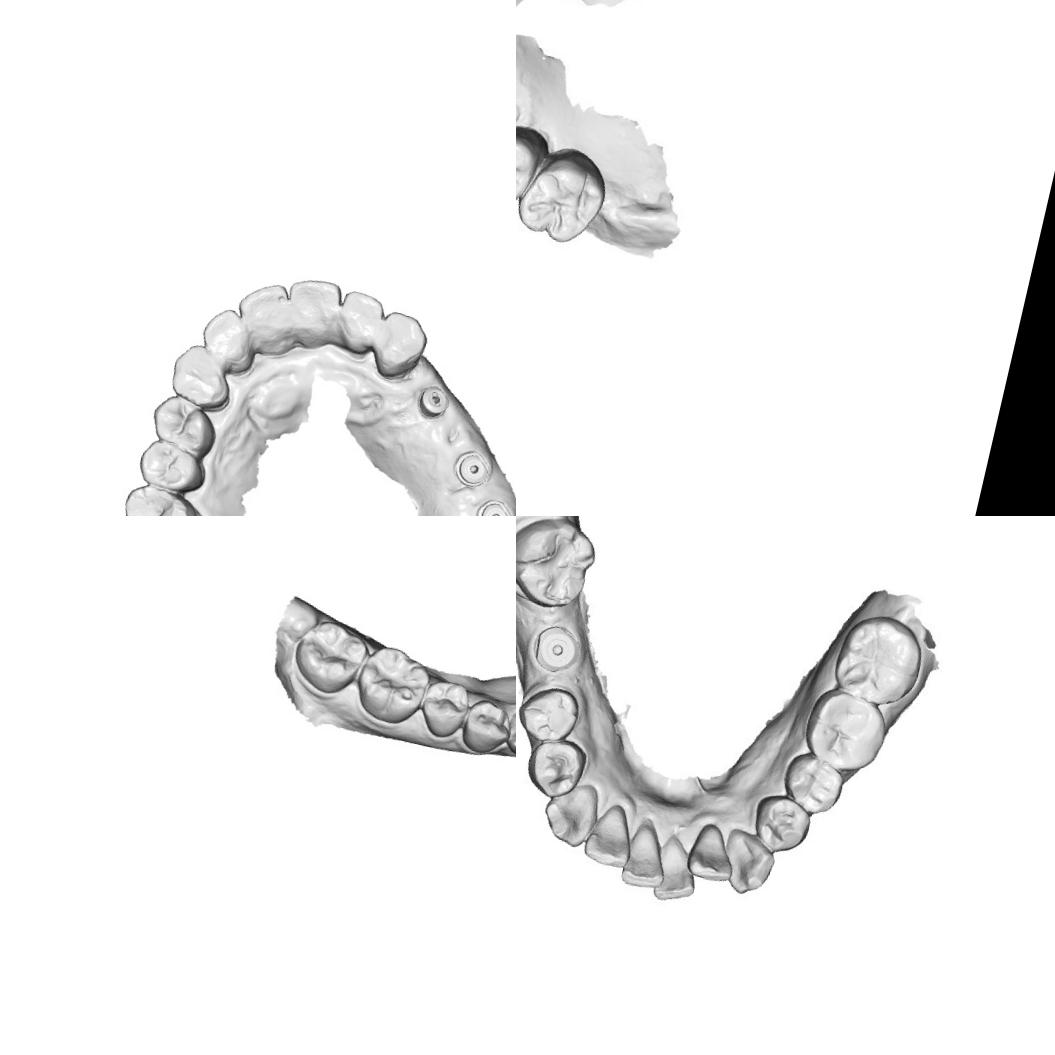canine: (164, 339, 241, 414), (368, 308, 432, 386), (538, 774, 601, 850), (721, 830, 779, 892), (501, 708, 516, 762)
implant: (528, 614, 584, 677), (449, 444, 497, 492), (471, 493, 516, 516)
implant_minus: (413, 382, 454, 422)
incisor: (276, 272, 346, 348), (230, 276, 297, 352), (580, 794, 646, 871), (194, 302, 258, 371), (330, 284, 388, 358), (648, 832, 706, 906), (620, 820, 676, 890), (684, 817, 739, 884)
molar: (516, 138, 616, 252), (516, 516, 611, 615), (834, 608, 923, 712), (348, 639, 437, 731), (286, 612, 374, 702), (804, 686, 891, 776), (111, 480, 210, 516)
premolar: (145, 390, 225, 459), (132, 436, 212, 499), (524, 732, 591, 802), (516, 679, 583, 745), (414, 676, 475, 744), (456, 693, 516, 760), (784, 752, 847, 815), (752, 794, 816, 856), (516, 125, 545, 216)
